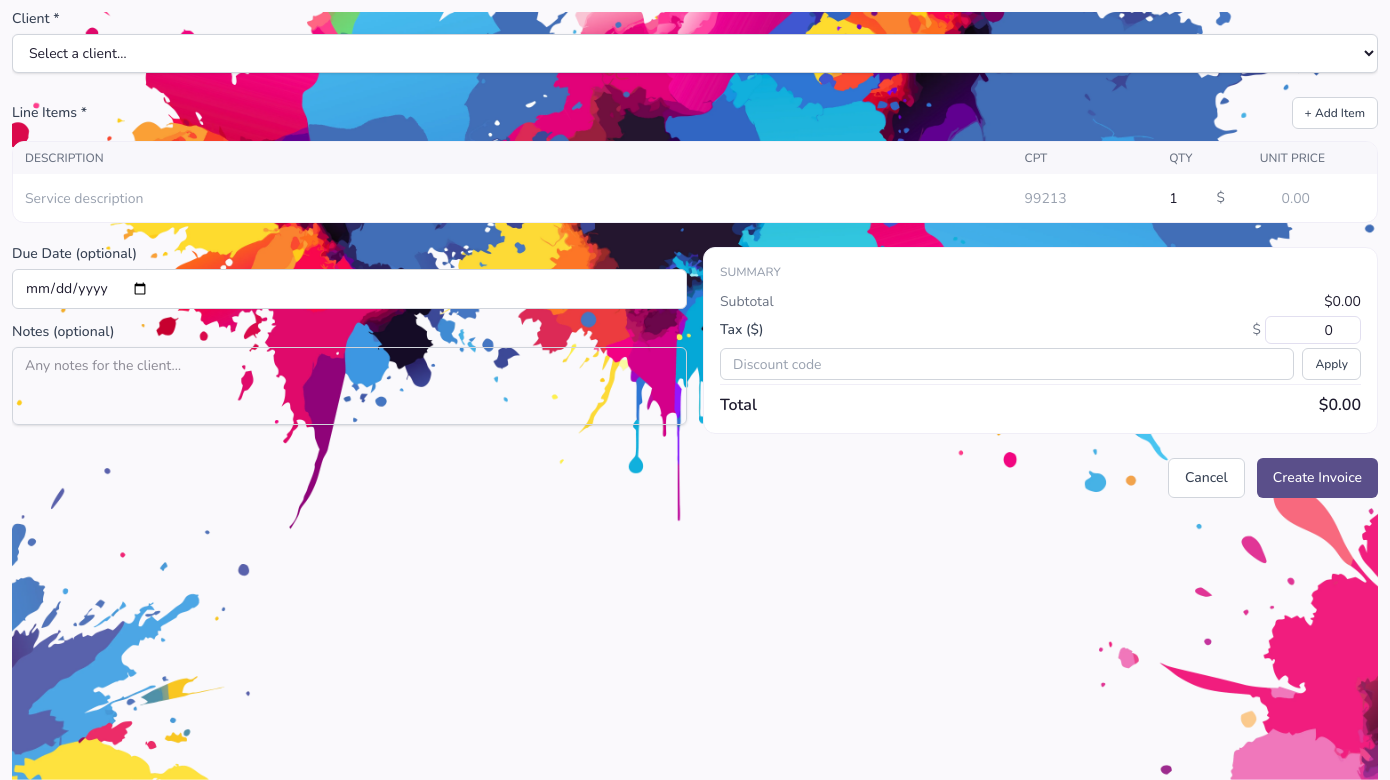
Scenario: NewInvoiceForm › line item management › removes a line item when remove button is clicked
The image size is (1390, 780).
Click the button "+ Add Item".
click(1335, 113)  # box [1292,97,1378,129]
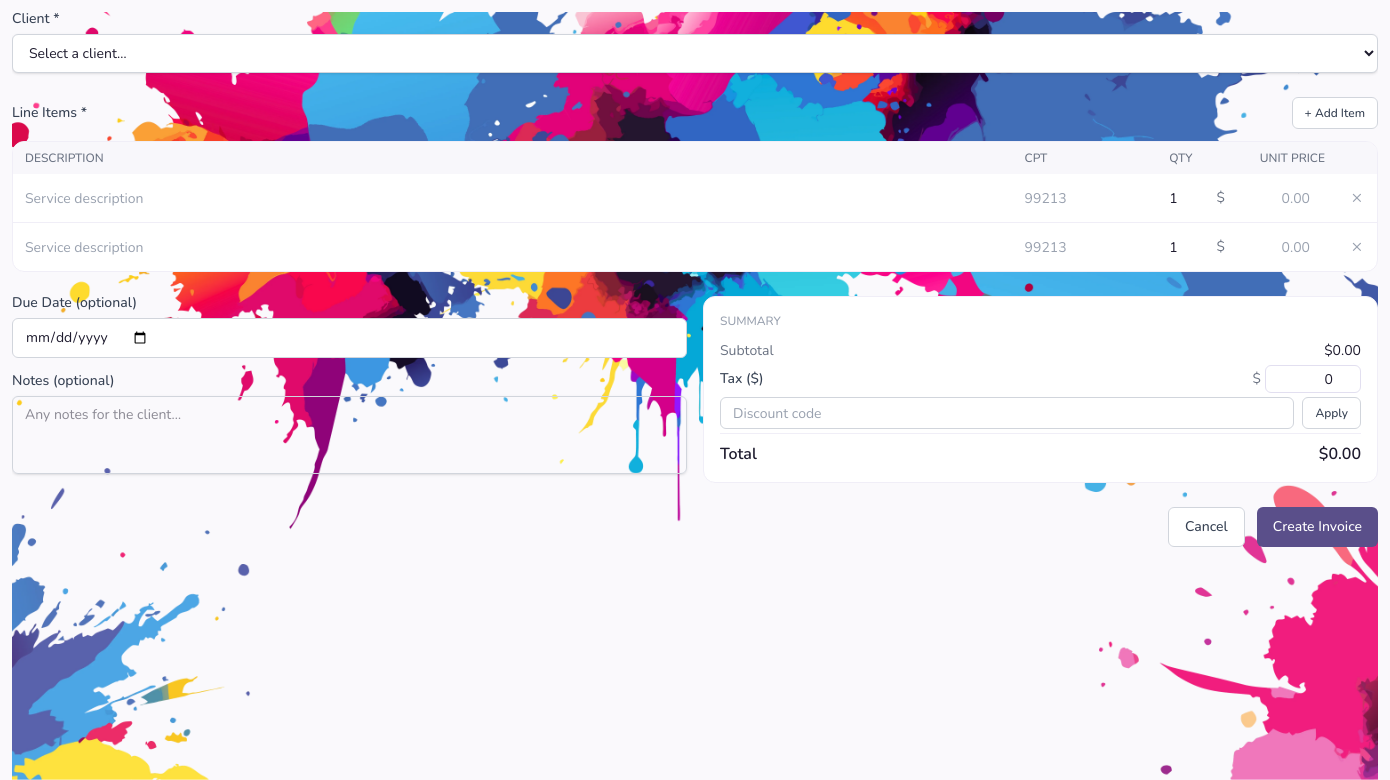
Check: the number of fields labelled "Service description" is 2, box [25,182,1001,214]; [25,231,1001,263]
Click the button named "Remove item 1".
click(1357, 196)  # box [1352,188,1362,206]
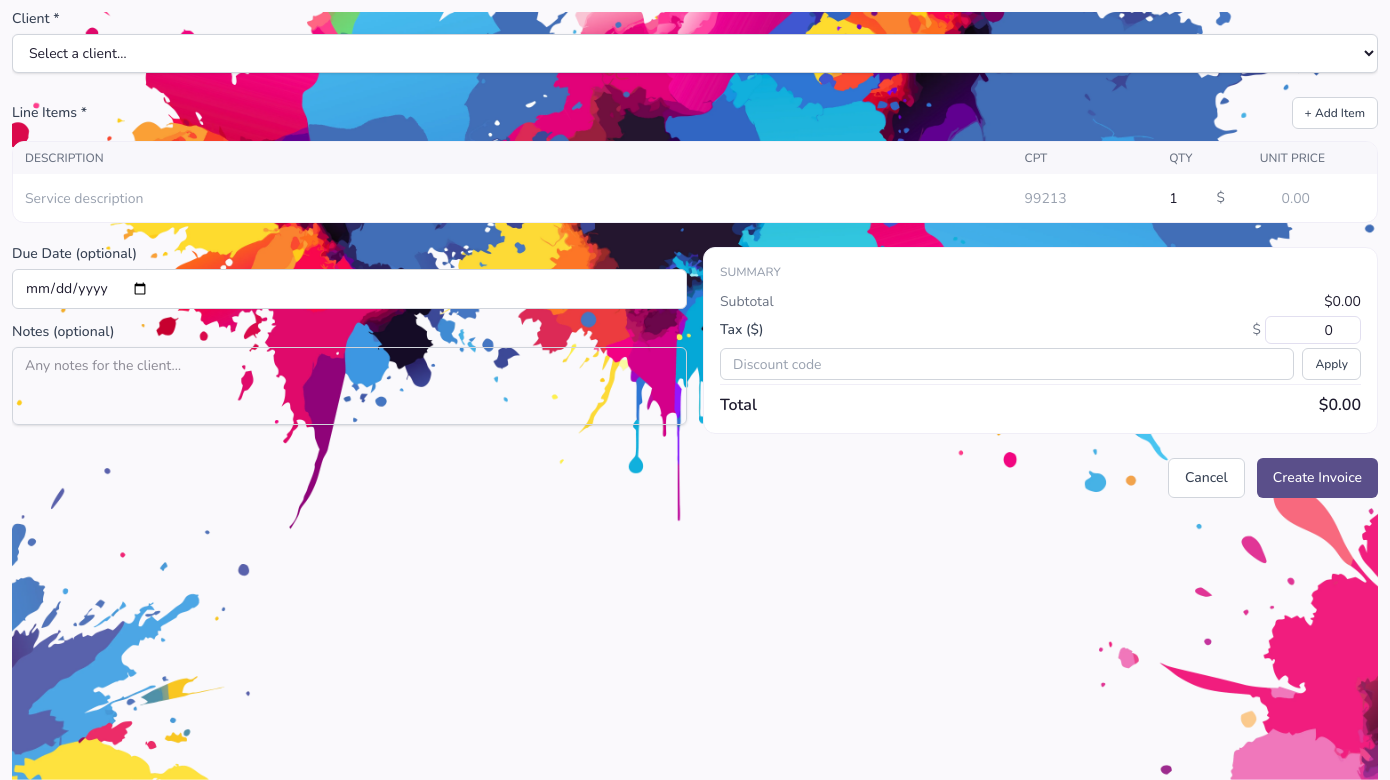
Check: the number of fields labelled "Service description" is 1, box [25,182,1001,214]
